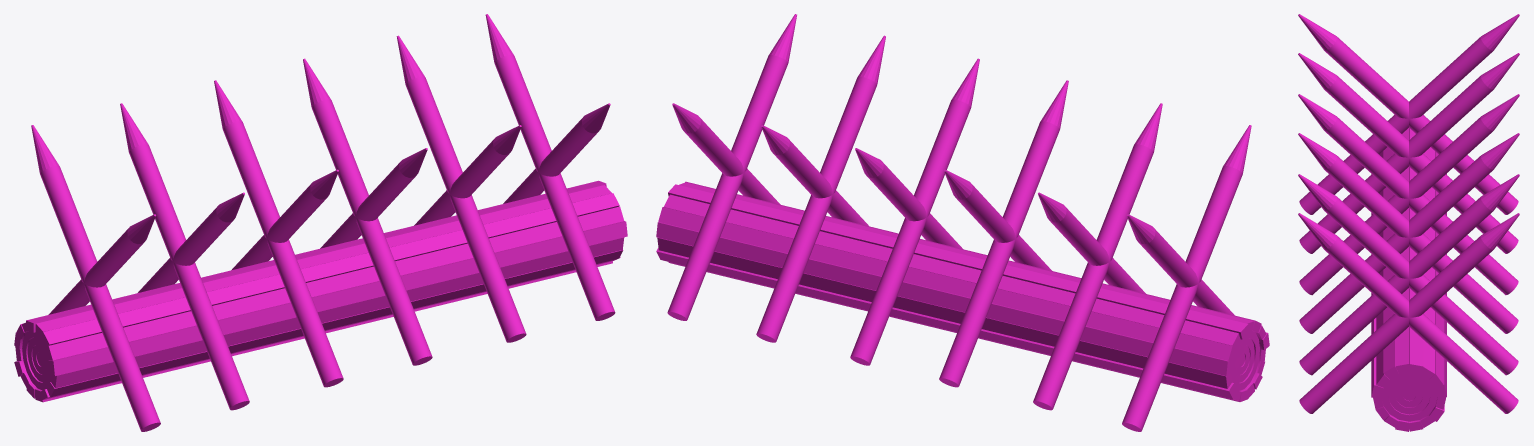
Rendered from WSpikes.fbx.
3 renders of one model, left to right at view 1: azimuth 30°, elevation 25°; view 2: azimuth 150°, elevation 25°; view 3: azimuth 270°, elevation 25°, orthographic. The views are drawn at different scales.
Visible parts, largest first — view 1: wood.001; view 2: wood.001; view 3: wood.001.
Part boxes in pixels (<box>): wood.001: <box>14,14,627,431</box>; wood.001: <box>656,14,1269,431</box>; wood.001: <box>1298,14,1519,431</box>.
Bounding box in the file's own units: 8.39 × 3.12 × 3.14.
